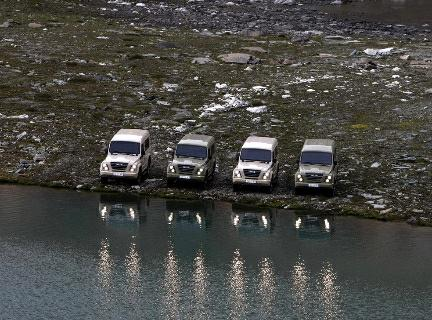依维柯-Campagnola: (91, 126, 158, 191), (160, 126, 219, 193), (230, 128, 284, 189), (295, 137, 349, 197)
